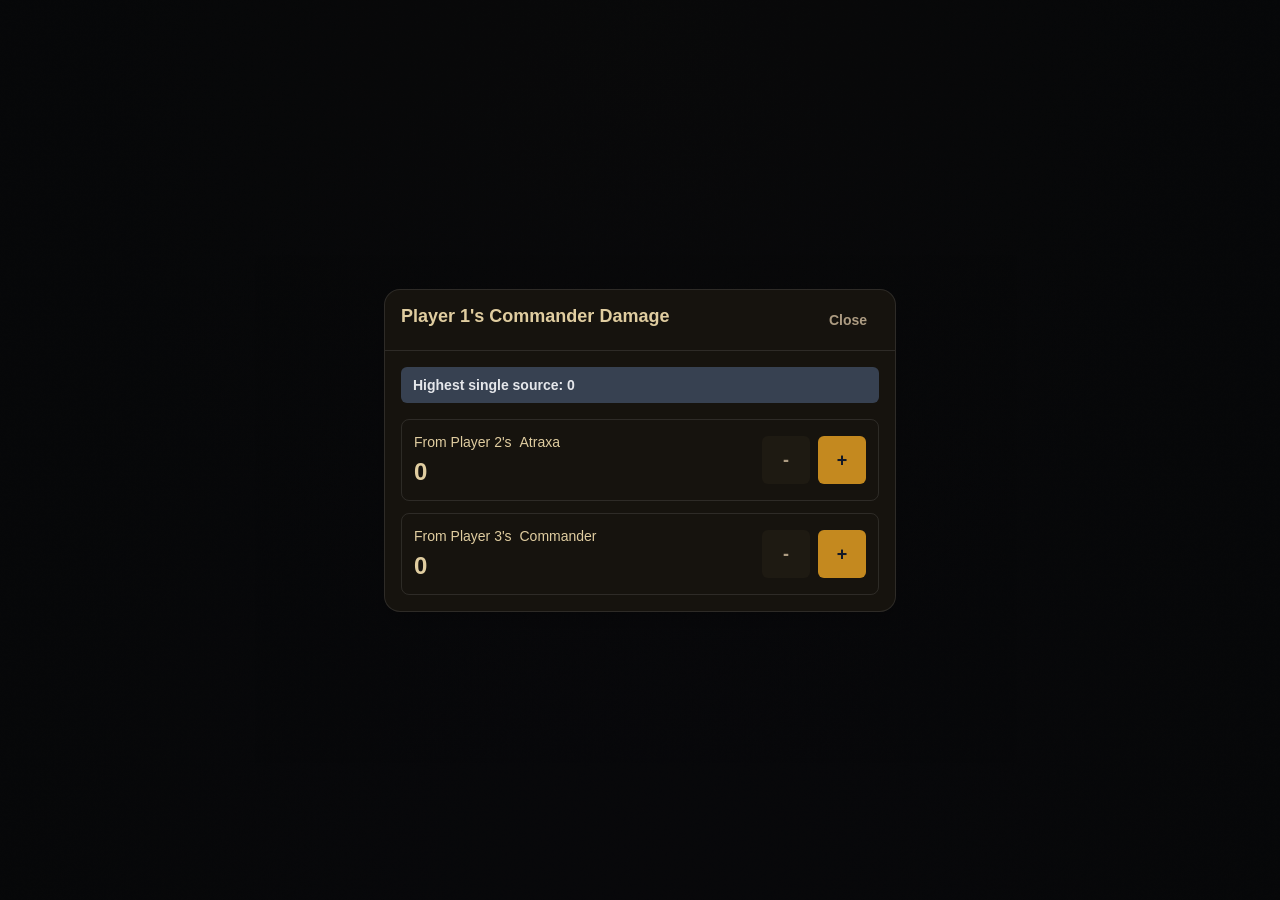
Test: CommanderDamageModal › cancels commander name edit on Escape key
Click on commander name to edit
Click the button "Atraxa".
click(540, 442)  # box [516,432,564,452]
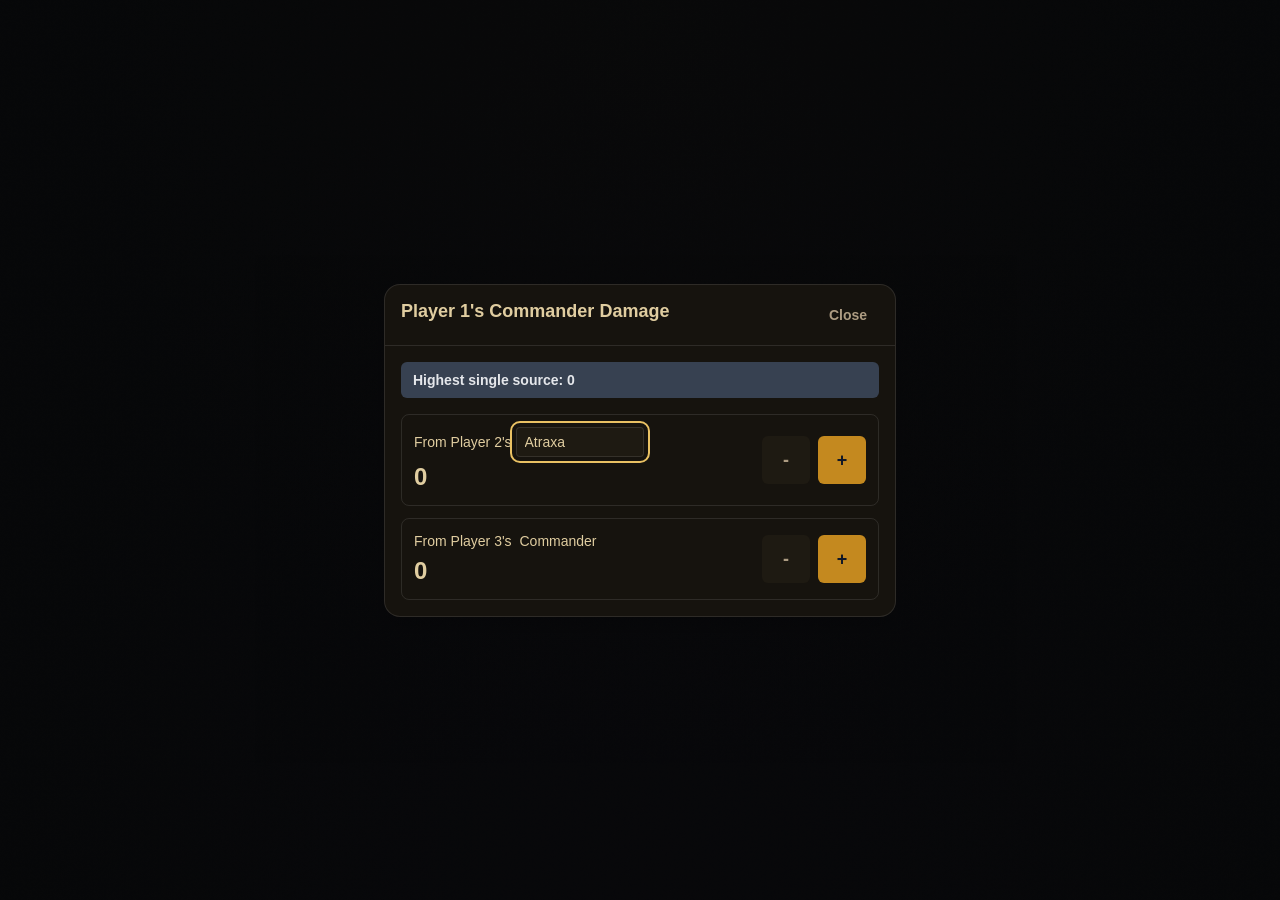
Type new name and press Escape
Type "NewName" into the field with placeholder "Commander".
click(580, 442); type("NewName")  # box [516,426,644,456]
Then press Escape
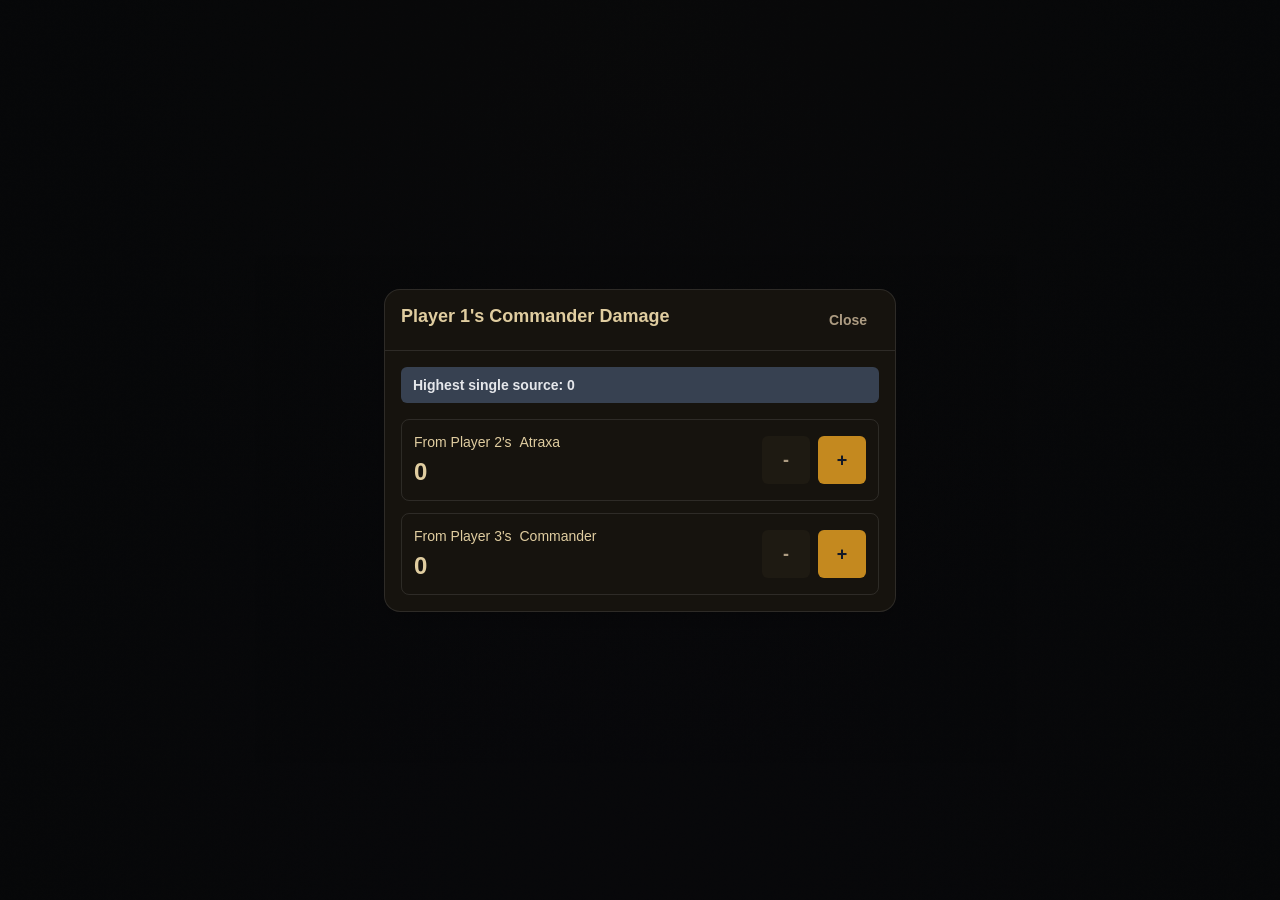
Expected: the button "Atraxa" is shown, [516,432,564,452]
